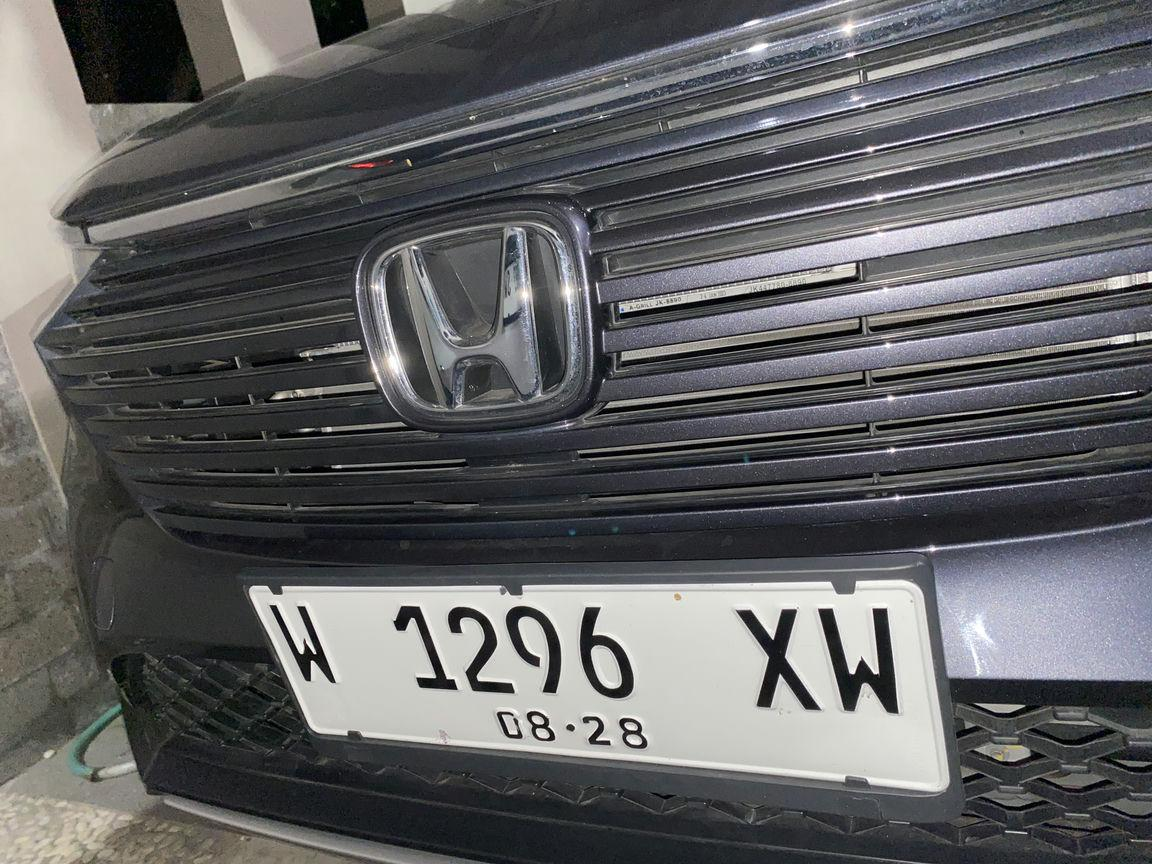plat: (248, 556, 963, 821)
